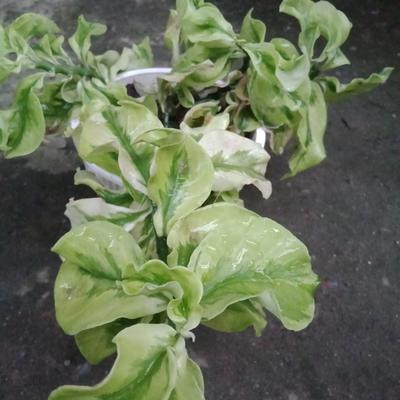Pothos plant: (20, 29, 337, 330)
